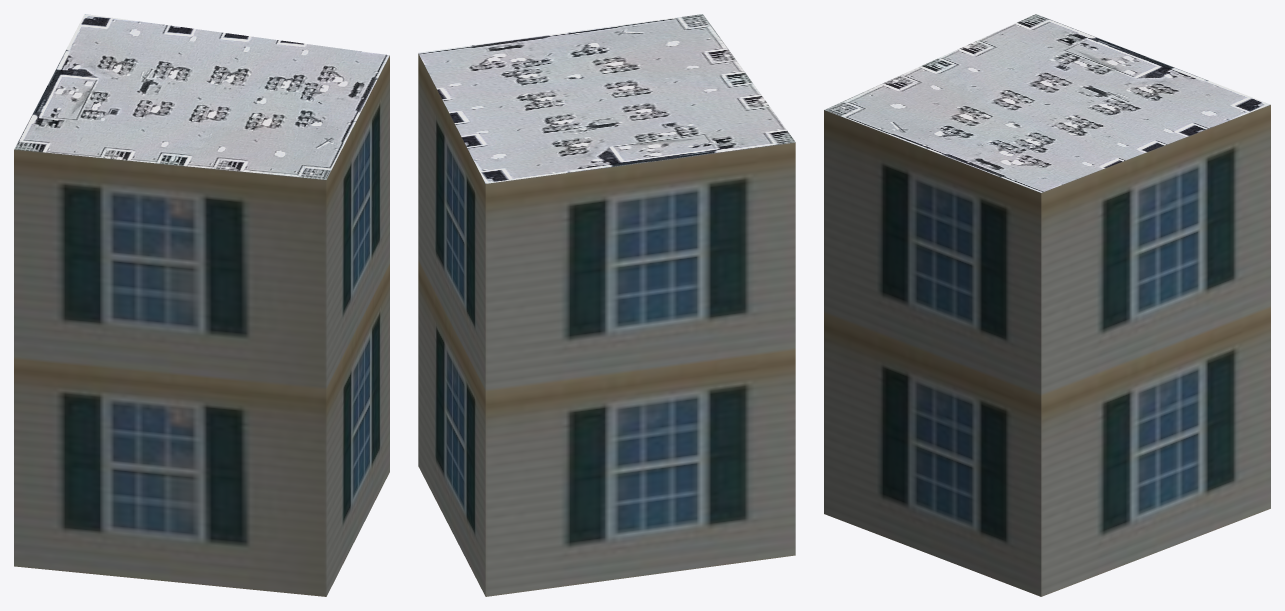
File: ResTex__3193.fbx
3 renders of one model, left to right at view 1: azimuth 30°, elevation 25°; view 2: azimuth 150°, elevation 25°; view 3: azimuth 270°, elevation 25°, orthographic. The views are drawn at different scales.
Parts seen in each view (by area): view 1: CityEngineMaterial_7_m, CityEngineMaterial_8_m; view 2: CityEngineMaterial_7_m, CityEngineMaterial_8_m; view 3: CityEngineMaterial_7_m, CityEngineMaterial_8_m.
Part boxes in pixels (x1=…): CityEngineMaterial_7_m: x1=14, y1=55, x2=389, y2=596; CityEngineMaterial_8_m: x1=14, y1=14, x2=389, y2=179; CityEngineMaterial_7_m: x1=418, y1=53, x2=795, y2=596; CityEngineMaterial_8_m: x1=418, y1=14, x2=795, y2=183; CityEngineMaterial_7_m: x1=824, y1=105, x2=1270, y2=596; CityEngineMaterial_8_m: x1=824, y1=14, x2=1270, y2=192.
Bounding box in the file's own units: 5.7 × 6 × 6.01.
2 materials, 2 textured.
